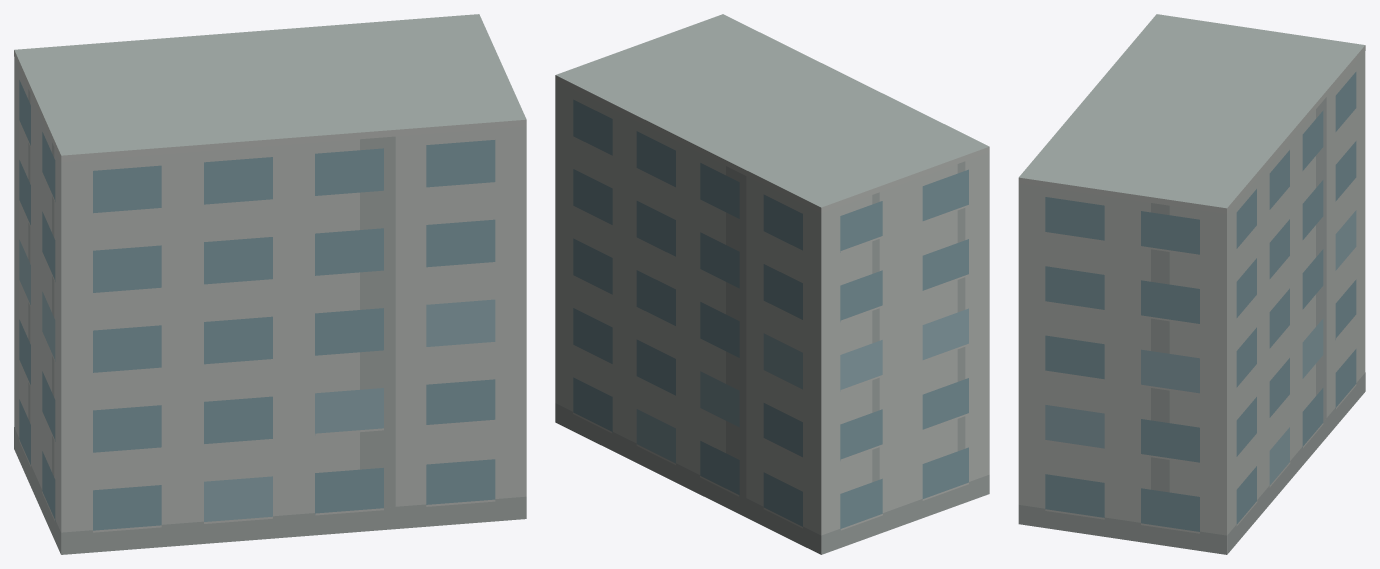
Rendered from survey-upis-32894457.glb.
3 renders of one model, left to right at view 1: azimuth 30°, elevation 25°; view 2: azimuth 150°, elevation 25°; view 3: azimuth 270°, elevation 25°, orthographic. The views are drawn at different scales.
Parts seen in each view (by area): view 1: survey-upis-32894457.tmp; view 2: survey-upis-32894457.tmp; view 3: survey-upis-32894457.tmp.
Part boxes in pixels (bbox=[...]): survey-upis-32894457.tmp: bbox=[14, 14, 526, 554]; survey-upis-32894457.tmp: bbox=[555, 14, 989, 554]; survey-upis-32894457.tmp: bbox=[1018, 14, 1365, 554].
Bounding box in the file's own units: 17.44 × 14.5 × 13.16.
